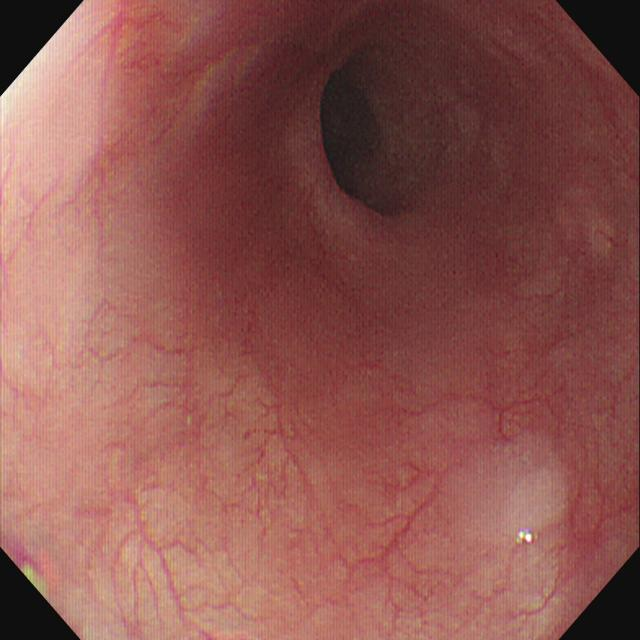A: (600, 232, 630, 252)
E: (322, 75, 379, 196)
U: (517, 531, 539, 549)
